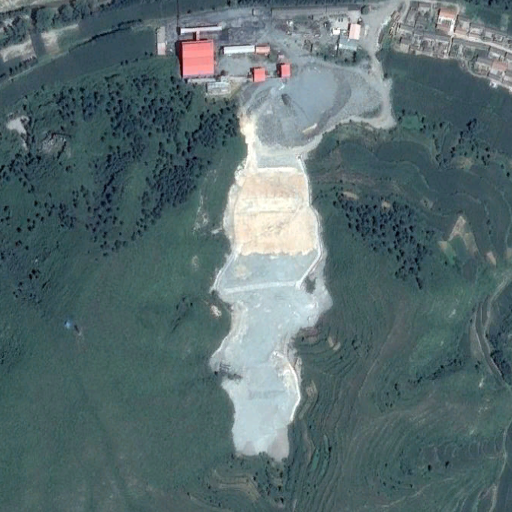tp: (212, 150, 326, 460)
